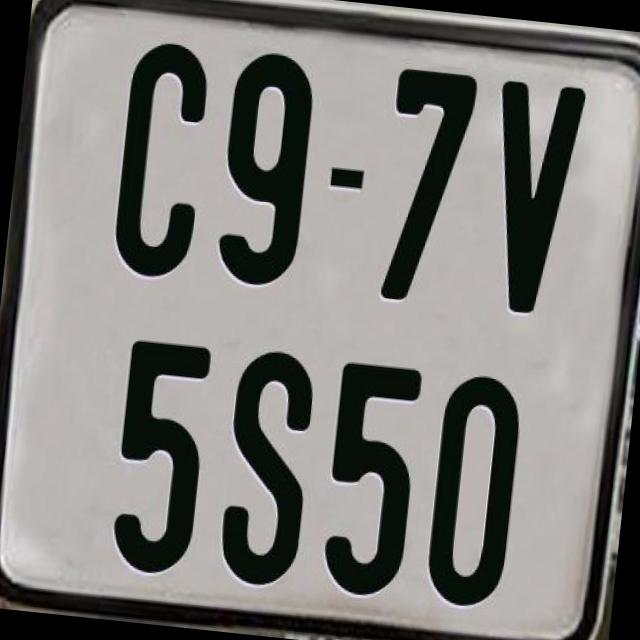0: (421, 367, 526, 606)
5: (316, 360, 424, 606), (104, 333, 209, 572)
7: (373, 68, 481, 308)
9: (209, 49, 318, 298)
C: (110, 39, 218, 289)
S: (213, 345, 320, 586)
V: (476, 75, 588, 322)
